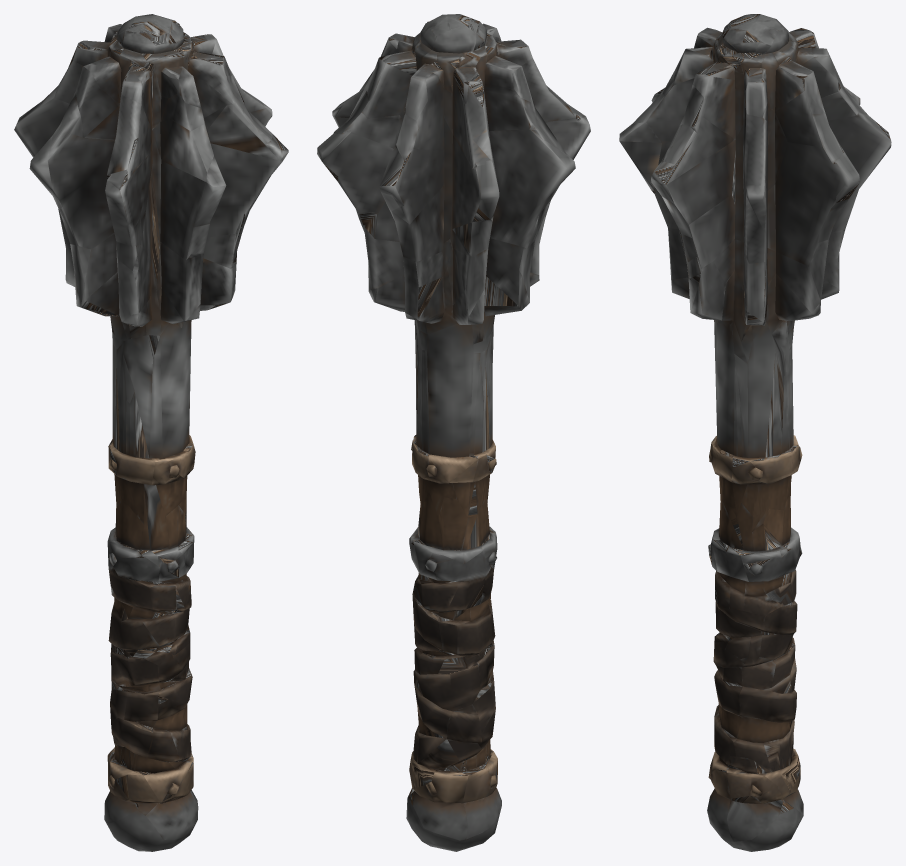
Rendered from mace.glb.
3 renders of one model, left to right at view 1: azimuth 30°, elevation 25°; view 2: azimuth 150°, elevation 25°; view 3: azimuth 270°, elevation 25°, orthographic.
Visible parts, largest first — view 1: Mesh_0; view 2: Mesh_0; view 3: Mesh_0.
Part boxes in pixels (x1,y1,x2,y2): Mesh_0: (14, 14, 288, 851); Mesh_0: (317, 14, 590, 851); Mesh_0: (619, 14, 891, 851).
Size of the model in its own units: 0.2241 by 0.75 by 0.2234.
1 material, 1 textured.
